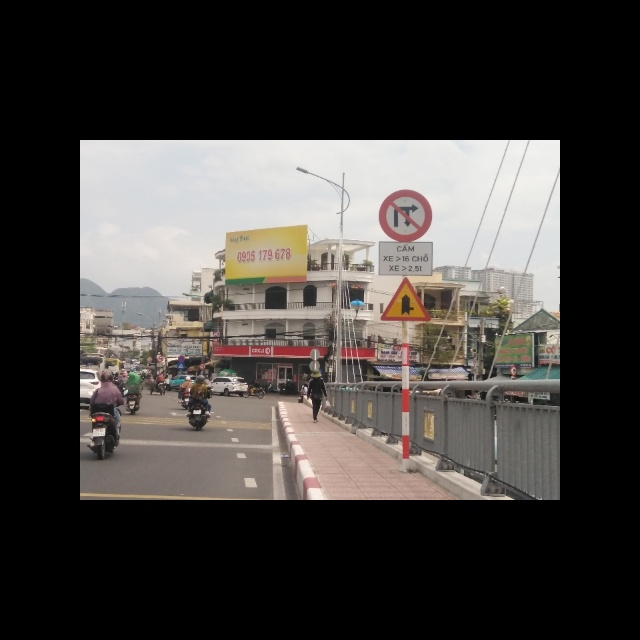Cấm quay đầu và rẽ phải: (378, 188, 432, 241)
Giao nhau với đường không ưu tiên: (382, 278, 431, 323)
